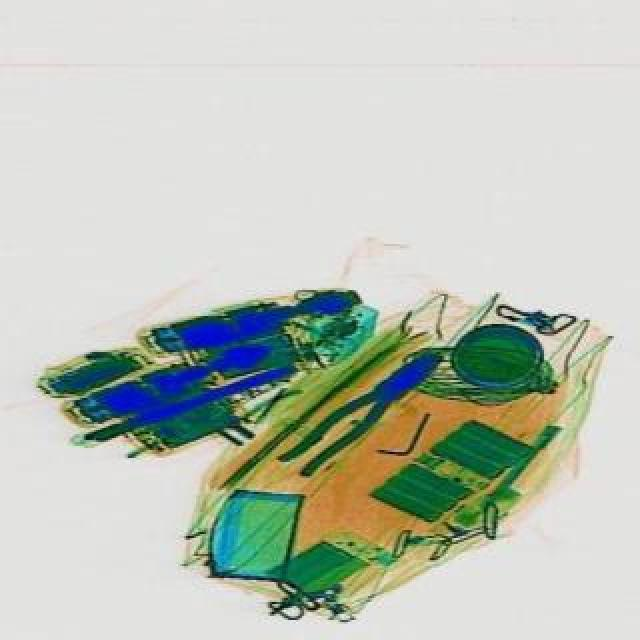wrench: (276, 340, 456, 484)
